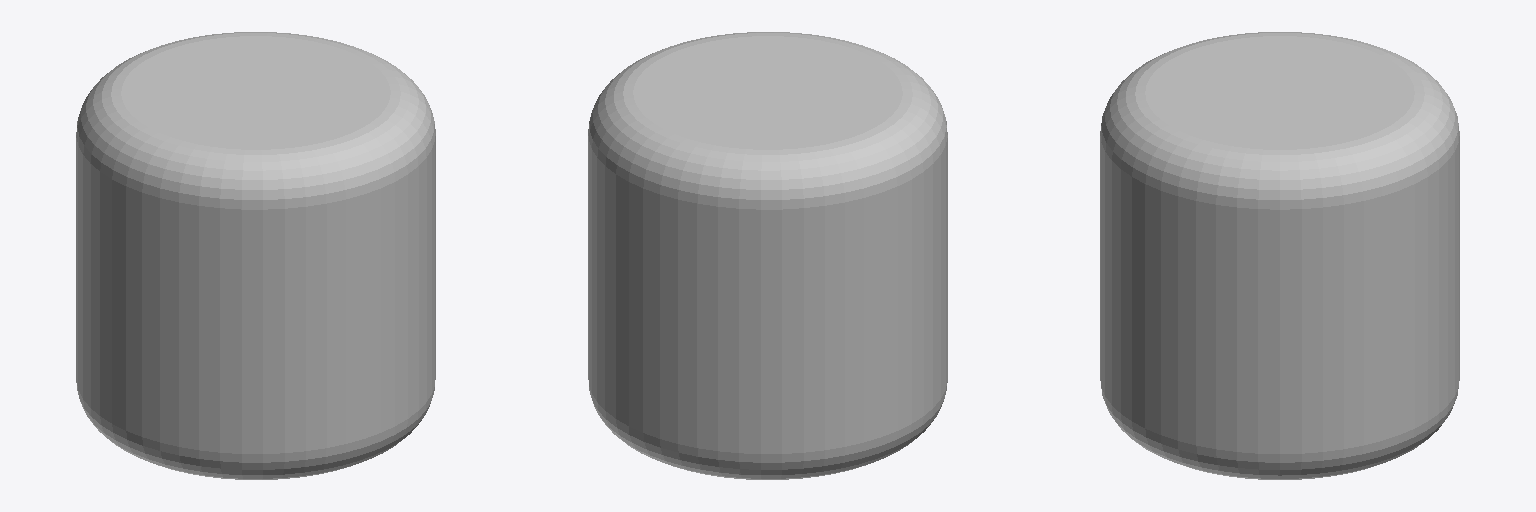
File: bodypart_red.obj
3 renders of one model, left to right at view 1: azimuth 30°, elevation 25°; view 2: azimuth 150°, elevation 25°; view 3: azimuth 270°, elevation 25°, orthographic.
Parts seen in each view (by area): view 1: Cylinder_Cylinder.003; view 2: Cylinder_Cylinder.003; view 3: Cylinder_Cylinder.003.
Part boxes in pixels (bbox=[...]): Cylinder_Cylinder.003: bbox=[76, 32, 435, 479]; Cylinder_Cylinder.003: bbox=[588, 32, 947, 479]; Cylinder_Cylinder.003: bbox=[1100, 32, 1459, 479].
Size of the model in its own units: 2 by 2 by 2.